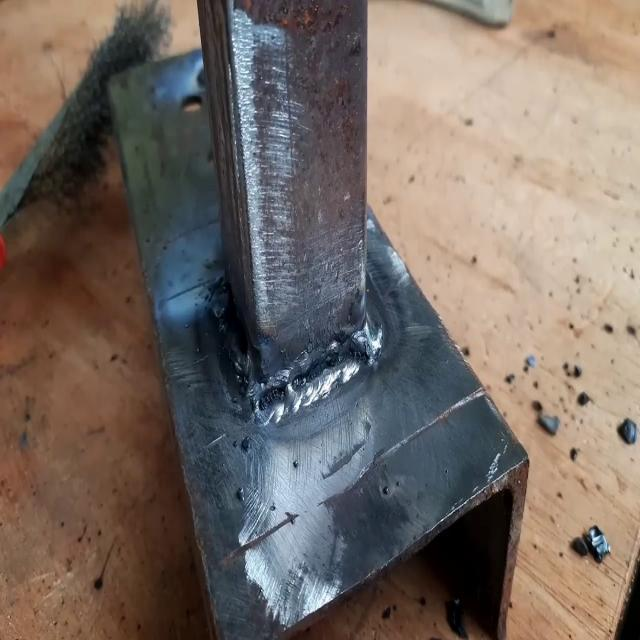Bad Welding: (251, 324, 381, 422)
Porosity: (290, 358, 324, 390), (258, 382, 286, 412)
